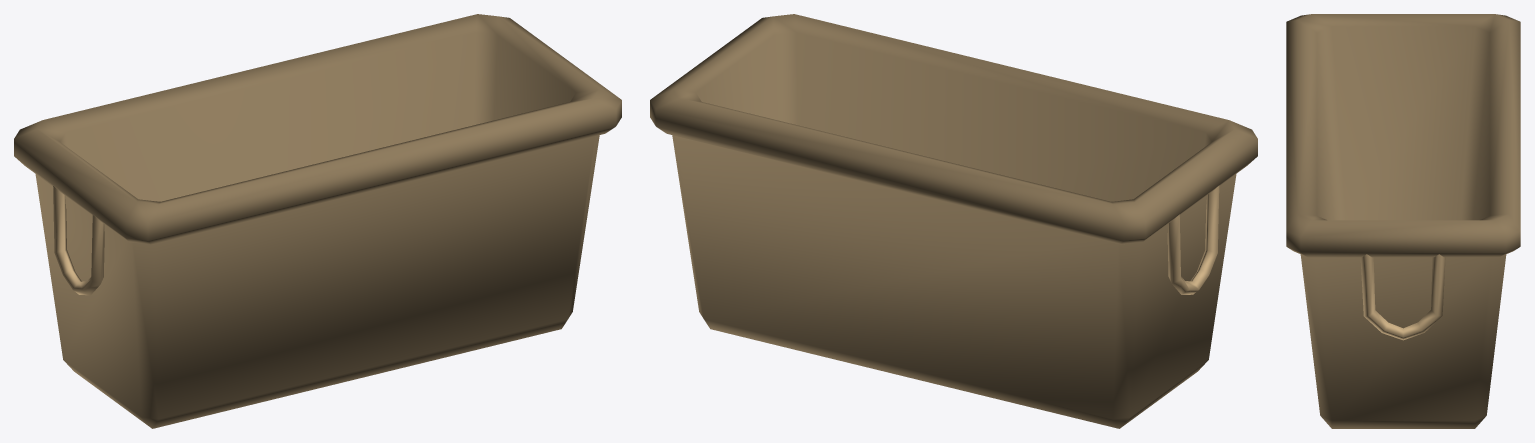
Rendered from rpgpp_ag_basket_03a.fbx.
3 views of the same model, side by side, from view 1: azimuth 30°, elevation 25°; view 2: azimuth 150°, elevation 25°; view 3: azimuth 270°, elevation 25° (orthographic). The views are drawn at different scales.
Parts seen in each view (by area): view 1: rpgpp_ag_basket_03a; view 2: rpgpp_ag_basket_03a; view 3: rpgpp_ag_basket_03a.
Part boxes in pixels (x1=…): rpgpp_ag_basket_03a: x1=14, y1=14, x2=621, y2=428; rpgpp_ag_basket_03a: x1=650, y1=14, x2=1257, y2=428; rpgpp_ag_basket_03a: x1=1286, y1=14, x2=1520, y2=428.
Bounding box in the file's own units: 1.09 × 0.5048 × 0.4866.
